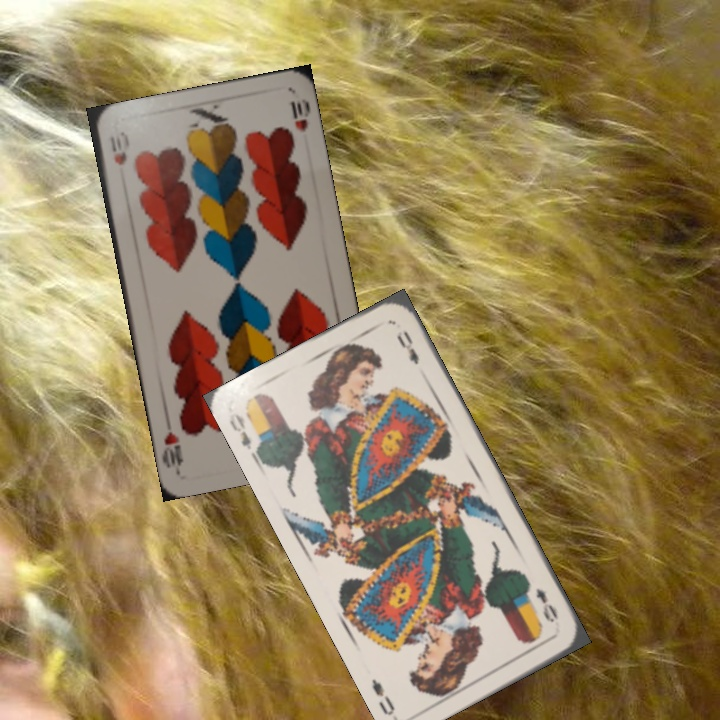EO: (225, 407, 265, 462), (531, 584, 561, 625)
H10: (106, 132, 130, 168)
